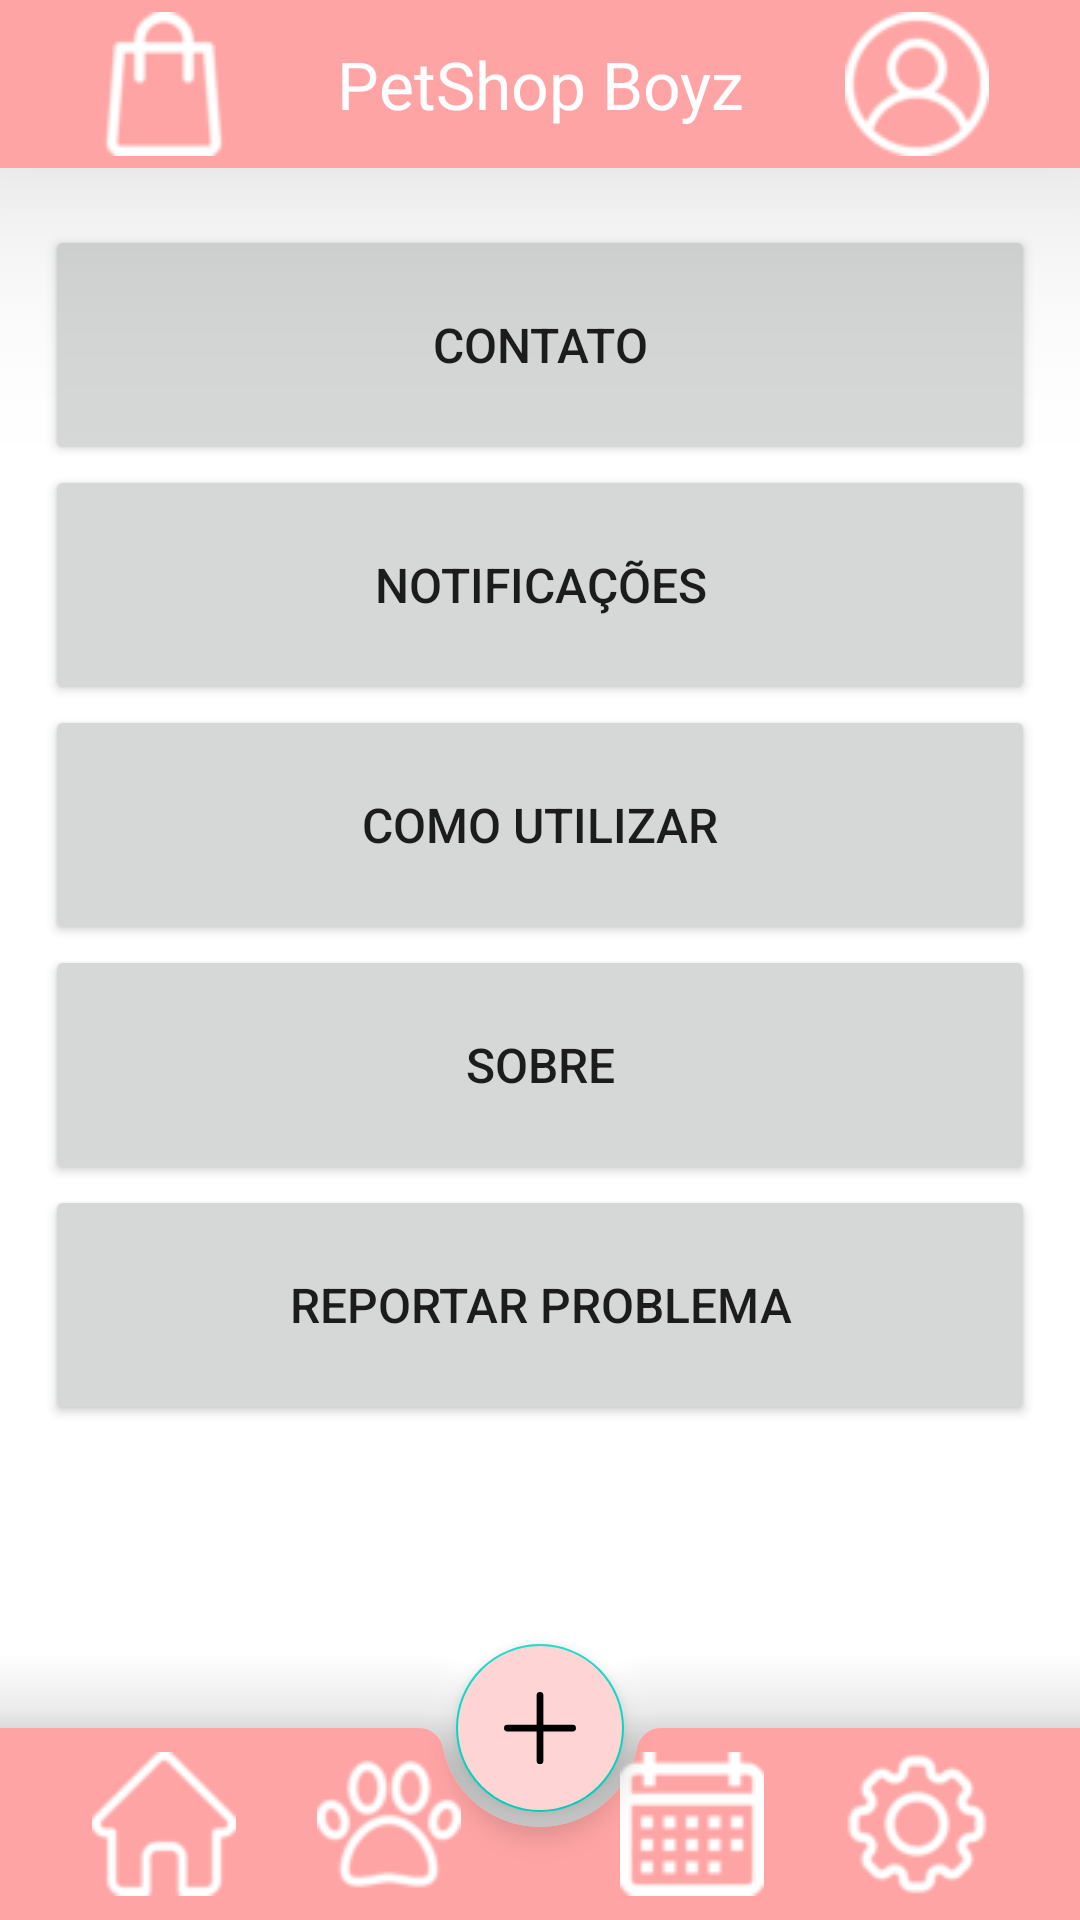

Screen size 1080 x 1920. Icon name, then its center in pixels as (x,y):
add: (540,1728)
calendar: (691,1824)
home: (164,1824)
pet: (388,1824)
setting: (917,1824)
user: (917,84)
